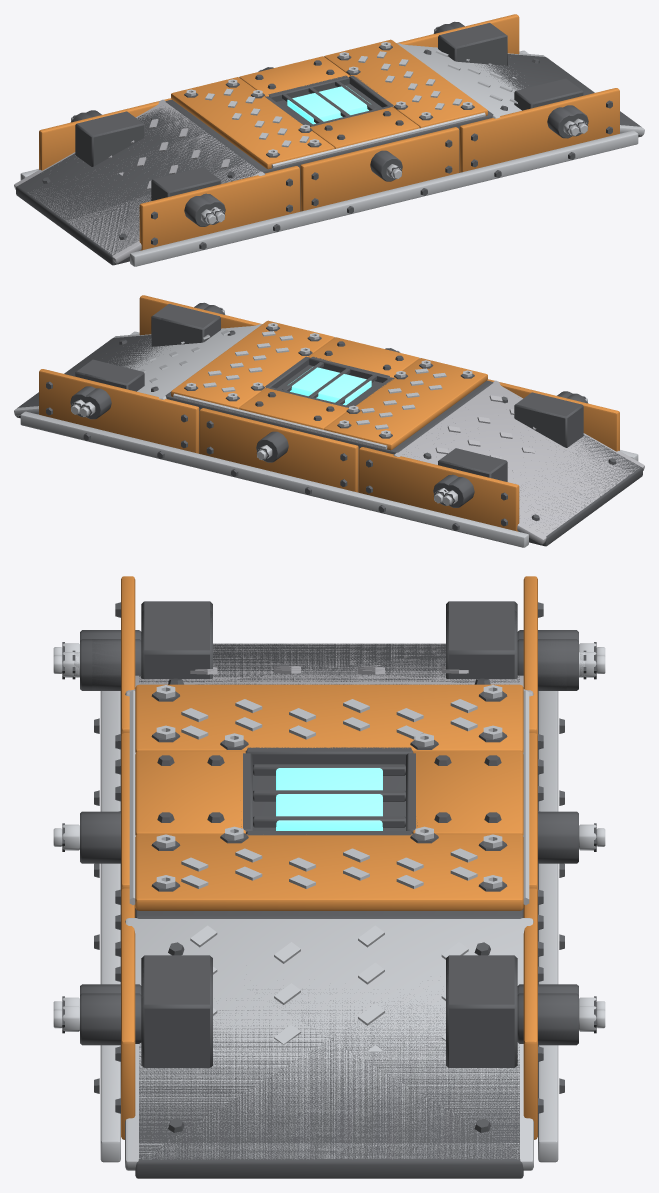
The model's file is long_low.glb.
3 renders of one model, top to bottom at view 1: azimuth 30°, elevation 25°; view 2: azimuth 150°, elevation 25°; view 3: azimuth 270°, elevation 25°, orthographic. The views are drawn at different scales.
Visible parts, largest first — view 1: body; view 2: body; view 3: body.
Part boxes in pixels (x1,y1,x2,y2): body: (14,14,644,266); body: (14,295,644,547); body: (53,576,605,1178).
Size of the model in its own units: 1.2 by 0.1474 by 0.54.
